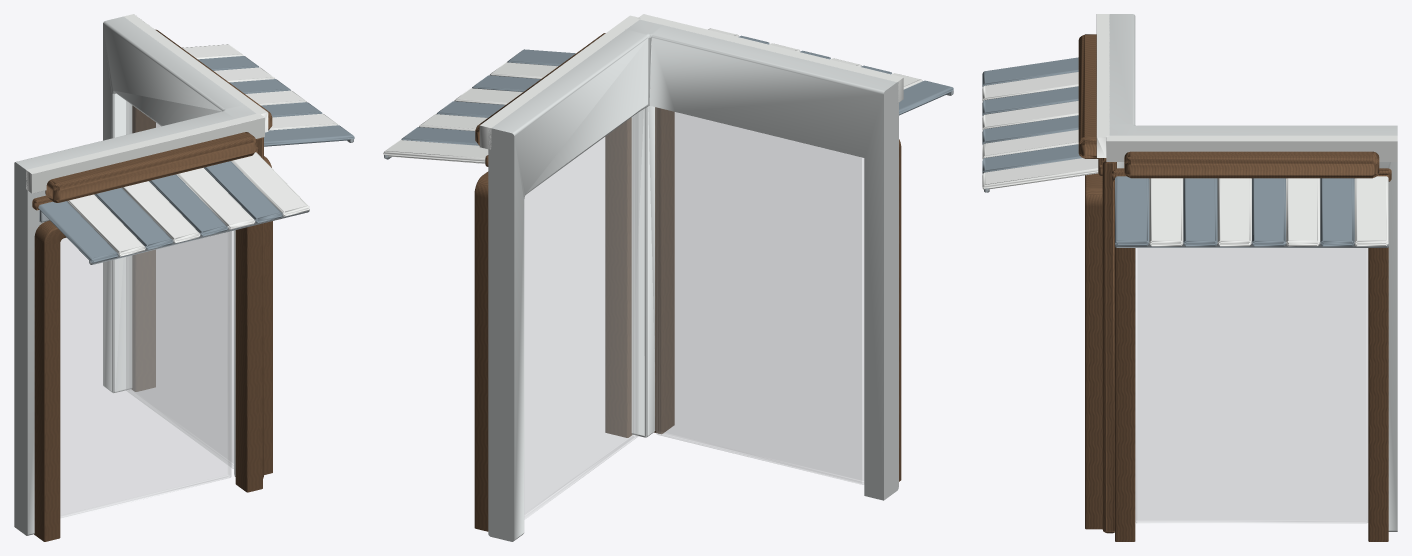
The model's file is CornerShopfront90.glb.
3 views of the same model, side by side, from view 1: azimuth 30°, elevation 25°; view 2: azimuth 150°, elevation 25°; view 3: azimuth 270°, elevation 25° (orthographic). The views are drawn at different scales.
Visible parts, largest first — view 1: PBK_glass.001, PBK_substrate.001, PBK_glass.003, PBK_Continuous_Frame_Modern_Shopfront.003, PBK_Continuous_Frame_Modern_Shopfront.004, PBK_floor_band.001, PBK_signboard.001, PBK_awning_stripe.001, PBK_awning_stripe.008, PBK_awning_stripe.006, PBK_awning_stripe.005, PBK_awning_stripe.007 (+12 smaller); view 2: PBK_glass.001, PBK_substrate.001, PBK_glass.003, PBK_Continuous_Frame_Modern_Shopfront.004, PBK_Continuous_Frame_Modern_Shopfront.003, PBK_floor_band.001, PBK_awning_stripe.016, PBK_awning_stripe.015, PBK_awning_stripe.001, PBK_awning_stripe.014, PBK_awning_stripe.012, PBK_awning_stripe.013 (+3 smaller); view 3: PBK_glass.003, PBK_Continuous_Frame_Modern_Shopfront.004, PBK_substrate.001, PBK_floor_band.001, PBK_signboard.002, PBK_Continuous_Frame_Modern_Shopfront.003, PBK_ShopCornerPost90.021, PBK_awning_stripe.016, PBK_awning_stripe.009, PBK_awning_stripe.012, PBK_awning_stripe.011, PBK_awning_stripe.014 (+13 smaller).
Boxes of the visible parts, x1,y1,x2,y2 form: PBK_glass.001: (60, 231, 231, 518); PBK_substrate.001: (14, 16, 255, 535); PBK_glass.003: (126, 101, 233, 468); PBK_Continuous_Frame_Modern_Shopfront.003: (34, 220, 262, 541); PBK_Continuous_Frame_Modern_Shopfront.004: (132, 105, 272, 474); PBK_floor_band.001: (26, 14, 268, 193); PBK_signboard.001: (45, 132, 256, 202); PBK_awning_stripe.001: (38, 201, 118, 263); PBK_awning_stripe.008: (231, 152, 309, 216); PBK_awning_stripe.006: (176, 167, 254, 229); PBK_awning_stripe.005: (149, 174, 227, 236); PBK_awning_stripe.007: (204, 161, 282, 223); PBK_glass.001: (656, 107, 863, 484); PBK_substrate.001: (488, 19, 898, 541); PBK_glass.003: (524, 113, 638, 519); PBK_Continuous_Frame_Modern_Shopfront.004: (474, 117, 632, 531); PBK_Continuous_Frame_Modern_Shopfront.003: (654, 107, 901, 481); PBK_floor_band.001: (479, 14, 903, 149); PBK_awning_stripe.016: (383, 140, 488, 163); PBK_awning_stripe.015: (401, 127, 478, 145); PBK_awning_stripe.001: (899, 80, 953, 115); PBK_awning_stripe.014: (419, 114, 487, 130); PBK_awning_stripe.012: (454, 88, 522, 104); PBK_awning_stripe.013: (436, 101, 504, 117); PBK_glass.003: (1135, 248, 1367, 523); PBK_Continuous_Frame_Modern_Shopfront.004: (1115, 247, 1388, 541); PBK_substrate.001: (1109, 14, 1397, 531); PBK_floor_band.001: (1096, 14, 1397, 161); PBK_signboard.002: (1124, 151, 1379, 178); PBK_Continuous_Frame_Modern_Shopfront.003: (1085, 173, 1102, 529); PBK_ShopCornerPost90.021: (1102, 158, 1116, 533); PBK_awning_stripe.016: (1354, 176, 1388, 246); PBK_awning_stripe.009: (1115, 176, 1149, 246); PBK_awning_stripe.012: (1217, 178, 1251, 246); PBK_awning_stripe.011: (1183, 178, 1217, 246); PBK_awning_stripe.014: (1286, 178, 1320, 246).
Size of the model in its own units: 2.85 by 3 by 2.85.
Materials: 7 (2 with a texture image).
